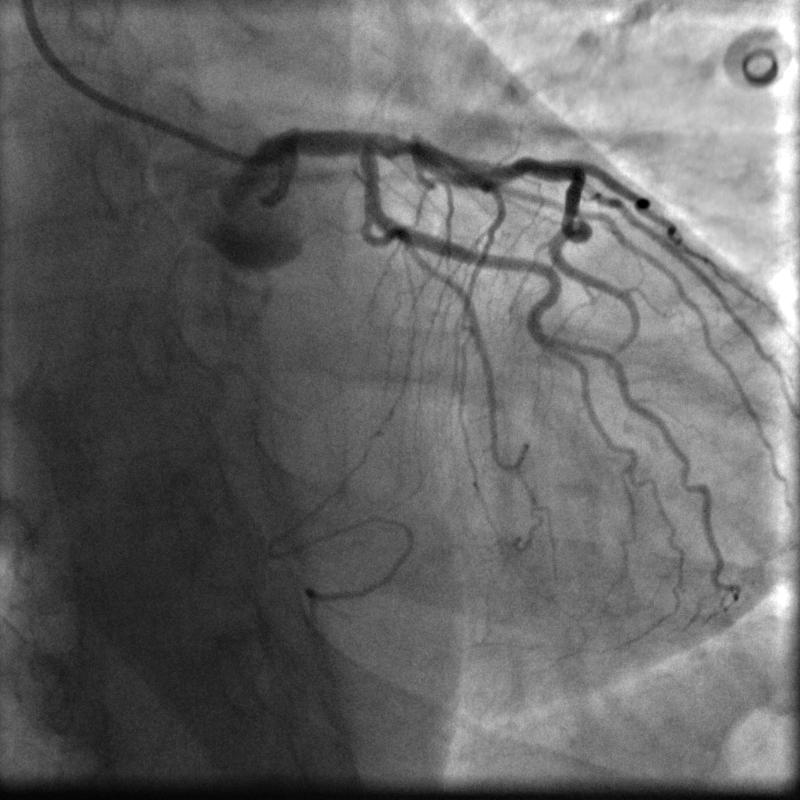Stenosis: (386, 126, 415, 165)
